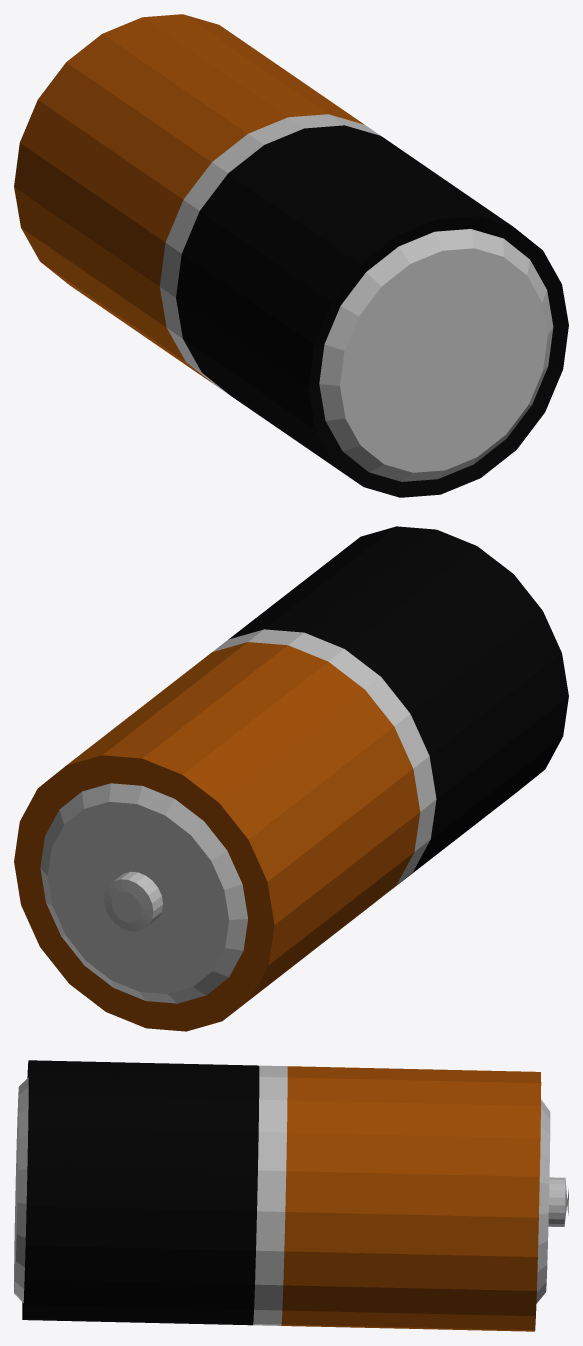
The model's file is battery.fbx.
3 views of the same model, one above another, from view 1: azimuth 30°, elevation 25°; view 2: azimuth 150°, elevation 25°; view 3: azimuth 270°, elevation 25° (orthographic). The views are drawn at different scales.
Parts seen in each view (by area): view 1: pCylinder1; view 2: pCylinder1; view 3: pCylinder1.
Boxes of the visible parts, x1,y1,x2,y2 form: pCylinder1: (14,14,568,497); pCylinder1: (14,526,568,1031); pCylinder1: (14,1060,568,1331).
Size of the model in its own units: 2 by 2.1 by 4.24.
